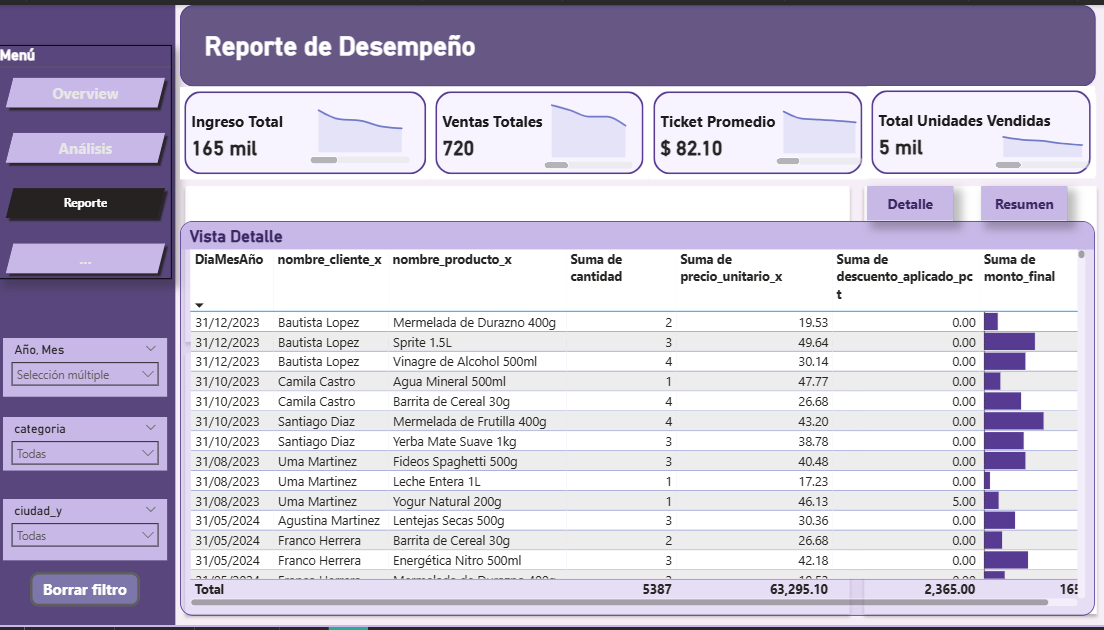

The page's visual inventory and layout, read from the dashboard file:
{"tool":"powerbi","page":{"name":"Reporte","canvas":[1280,720],"ordinal":2},"visuals":[{"type":"slicer","fields":{"Values":["DimCalendario.Año","DimCalendario.Mes"]},"box":[5.1,386,190.2,68.1],"z":0},{"type":"slicer","fields":{"Values":["DimProducto.categoria"]},"box":[5.1,477.2,190.2,61.7],"z":1000},{"type":"slicer","fields":{"Values":["DimSucursal.ciudad_y"]},"box":[5.1,572.3,190.2,70.7],"z":2000},{"type":"pageNavigator","title":"  Menú","box":[0,46.3,200.5,271.2],"z":3000},{"type":"actionButton","box":[36,656.7,127.2,39.8],"z":4000},{"type":"shape","title":"sddsd","box":[210,0,1060,94.3],"z":5000},{"type":"cardVisual","fields":{"Data":["Medidas.Ingreso Total"]},"box":[209.6,94.9,290.4,106.6],"z":6000},{"type":"cardVisual","fields":{"Data":["Medidas.Total Órdenes"]},"box":[500.1,94.9,251.8,106.6],"z":7000},{"type":"cardVisual","fields":{"Data":["Medidas.Ticket Promedio"]},"box":[751.8,94.9,253,106.6],"z":8000},{"type":"lineChart","fields":{"Y":["Medidas.Ingreso Total"],"Category":["DimCalendario.MesAño"]},"box":[354.8,104.2,125.3,84.3],"z":9000},{"type":"lineChart","fields":{"Y":["Medidas.Ventas Totales"],"Category":["DimCalendario.MesAño"]},"box":[626.5,101.9,112.4,92.5],"z":10000},{"type":"lineChart","fields":{"Y":["Medidas.Ticket Promedio"],"Category":["DimCalendario.MesAño"]},"box":[894.7,97.2,110.1,92.5],"z":11000},{"type":"tableEx","title":"Vista Detalle","fields":{"Values":["DimCalendario.DiaMesAño","DimCliente.nombre_cliente_x","DimProducto.nombre_producto_x","Sum(FacVentas.cantidad)","Sum(FacVentas.precio_unitario_x)","Sum(FacVentas.descuento_aplicado_pct)","Sum(FacVentas.monto_final)"]},"box":[210,250,1058.6,457.1],"z":13000},{"type":"actionButton","box":[1004.3,210,100,40],"z":14000},{"type":"actionButton","box":[1137.1,210,100,40],"z":15000},{"type":"cardVisual","fields":{"Data":["Medidas.Total Unidades Vendidas"]},"box":[1004.3,94.3,264.3,107.1],"z":16000},{"type":"lineChart","fields":{"Y":["Medidas.Total Unidades Vendidas"],"Category":["DimCalendario.MesAño"]},"box":[1148.8,131.2,119.5,63.2],"z":17000}]}

Visuals, with their boxes on the page's 1280x720 design canvas (x1, y1, x2, y2). These are canvas units, not pixel positions in the 1104x630 screenshot, which may show the page scaled, cropped or inside an application window:
slicer - DimCalendario.Año x DimCalendario.Mes: rect(5, 386, 195, 454)
slicer - DimProducto.categoria: rect(5, 477, 195, 539)
slicer - DimSucursal.ciudad_y: rect(5, 572, 195, 643)
"  Menú" pageNavigator: rect(0, 46, 200, 318)
actionButton: rect(36, 657, 163, 696)
"sddsd" shape: rect(210, 0, 1270, 94)
cardVisual - Medidas.Ingreso Total: rect(210, 95, 500, 202)
cardVisual - Medidas.Total Órdenes: rect(500, 95, 752, 202)
cardVisual - Medidas.Ticket Promedio: rect(752, 95, 1005, 202)
lineChart - Medidas.Ingreso Total x DimCalendario.MesAño: rect(355, 104, 480, 188)
lineChart - Medidas.Ventas Totales x DimCalendario.MesAño: rect(626, 102, 739, 194)
lineChart - Medidas.Ticket Promedio x DimCalendario.MesAño: rect(895, 97, 1005, 190)
"Vista Detalle" tableEx: rect(210, 250, 1269, 707)
actionButton: rect(1004, 210, 1104, 250)
actionButton: rect(1137, 210, 1237, 250)
cardVisual - Medidas.Total Unidades Vendidas: rect(1004, 94, 1269, 201)
lineChart - Medidas.Total Unidades Vendidas x DimCalendario.MesAño: rect(1149, 131, 1268, 194)
